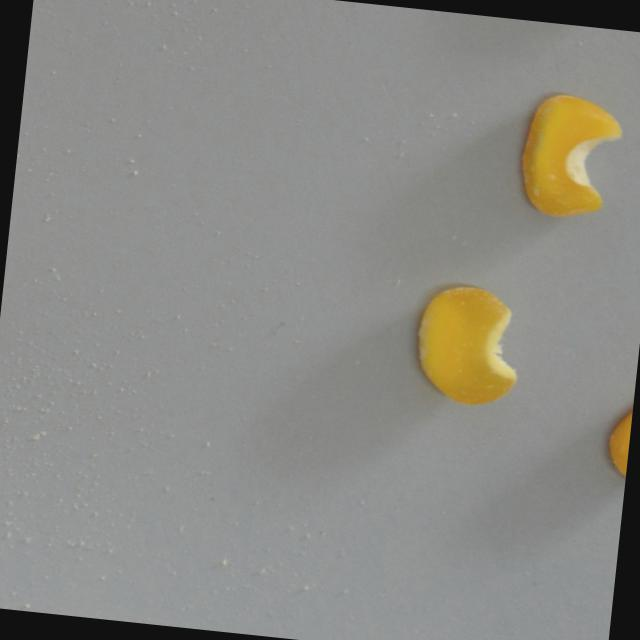pelicula: (514, 86, 631, 223), (405, 282, 526, 412)
